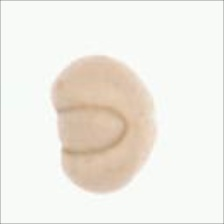L5: (54, 101, 131, 158)
L6: (48, 53, 160, 196)
